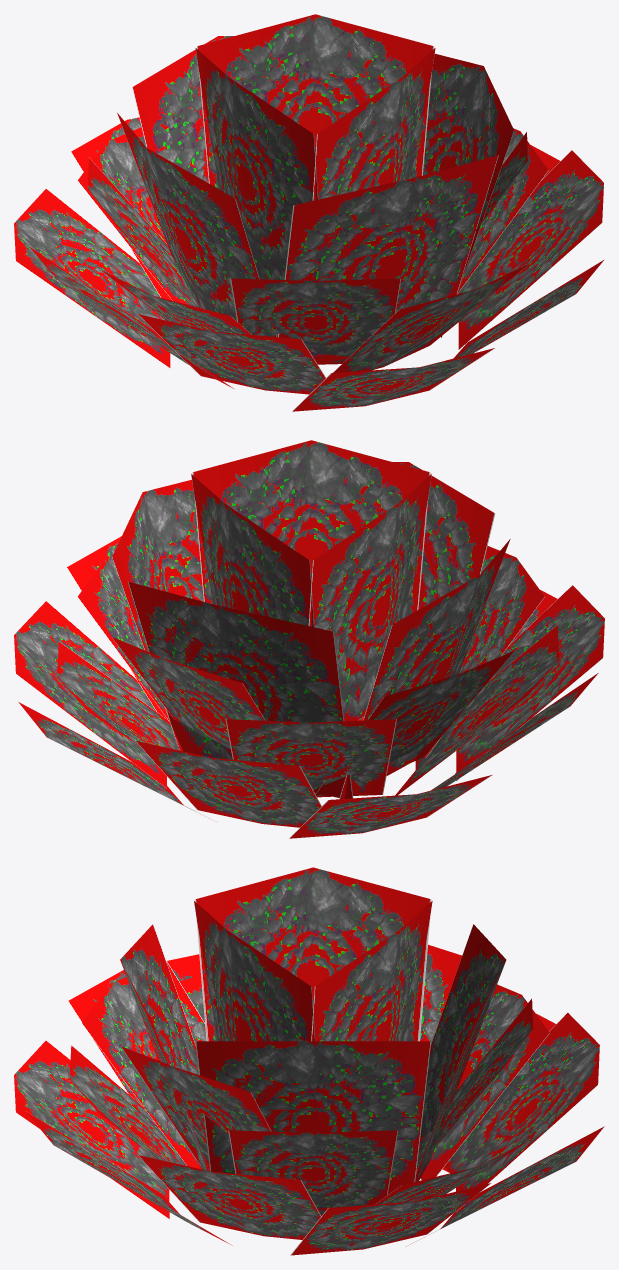
The model's file is E_ghostkeeper_skill.FBX.
3 renders of one model, top to bottom at view 1: azimuth 30°, elevation 25°; view 2: azimuth 150°, elevation 25°; view 3: azimuth 270°, elevation 25°, orthographic.
Visible parts, largest first — view 1: Tube001; view 2: Tube001; view 3: Tube001.
Part boxes in pixels (box(x1,y1,x2,y2)): Tube001: box(14, 14, 604, 411); Tube001: box(14, 440, 604, 838); Tube001: box(14, 867, 604, 1255).
Bounding box in the file's own units: 198 × 107 × 198.
